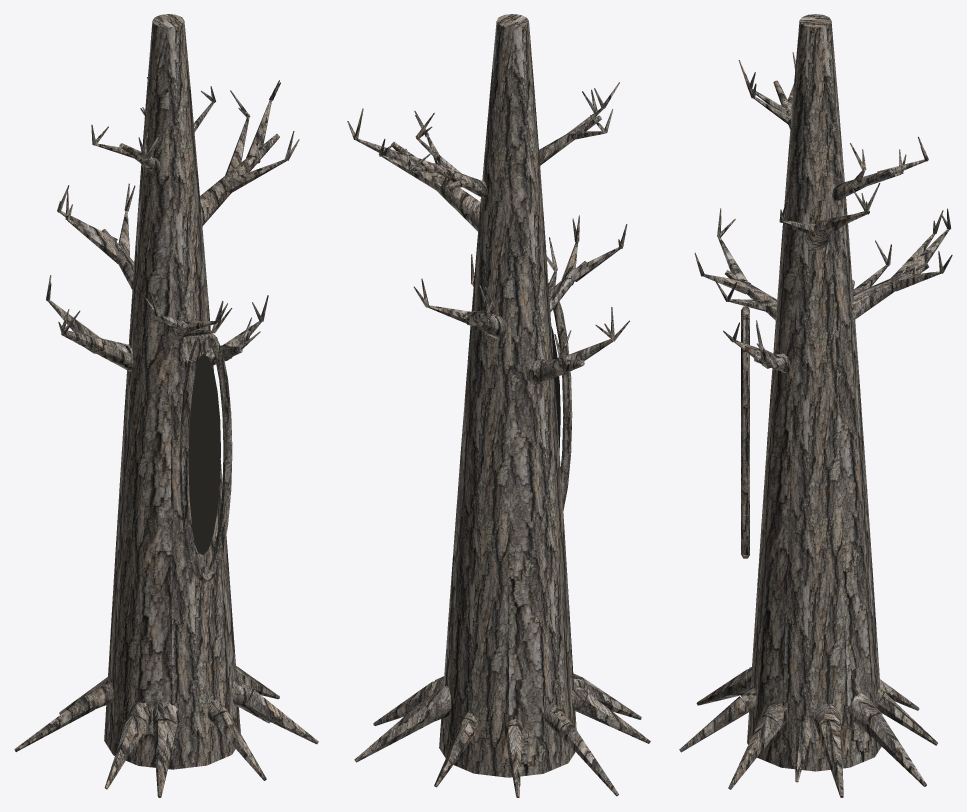
File: hollow-snag-v01.glb
3 renders of one model, left to right at view 1: azimuth 30°, elevation 25°; view 2: azimuth 150°, elevation 25°; view 3: azimuth 270°, elevation 25°, orthographic.
Parts seen in each view (by area): view 1: dead-tree-hollow; view 2: dead-tree-hollow; view 3: dead-tree-hollow.
Part boxes in pixels (x1,y1,x2,y2): dead-tree-hollow: [14, 14, 318, 797]; dead-tree-hollow: [347, 14, 650, 797]; dead-tree-hollow: [679, 14, 952, 797].
Bounding box in the file's own units: 3.11 × 8.01 × 2.75.
2 materials, 1 textured.
